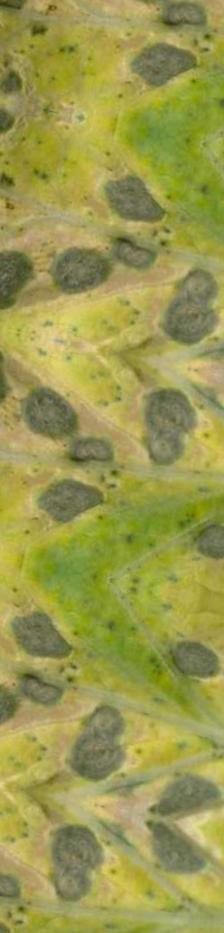Tomato leaf bacterial spot: (0, 275, 224, 673)
